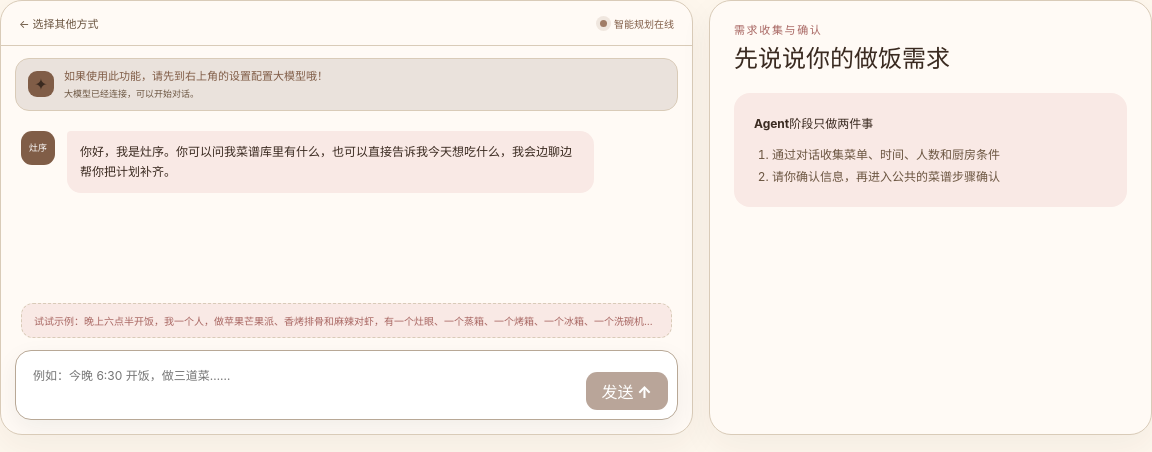
answers a catalog question without turning it into a missing-fields form
The image size is (1152, 452).
Type "菜谱里有什么菜？" into the text box named "告诉智能助手你的做饭需求". click: point(300, 385)
box: [25,360,576,410]
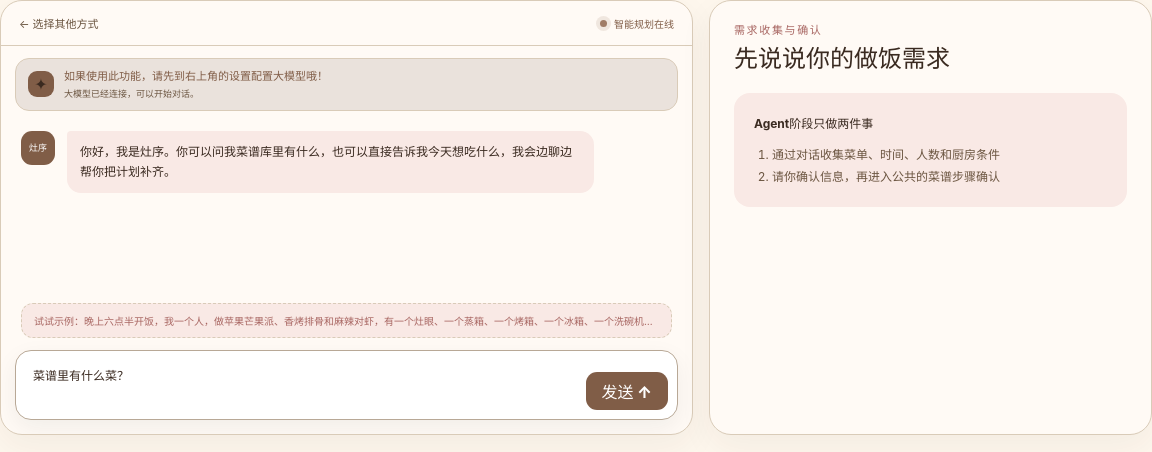
Click the button "发送 ↑". click: point(627, 391)
box: [586,372,668,410]
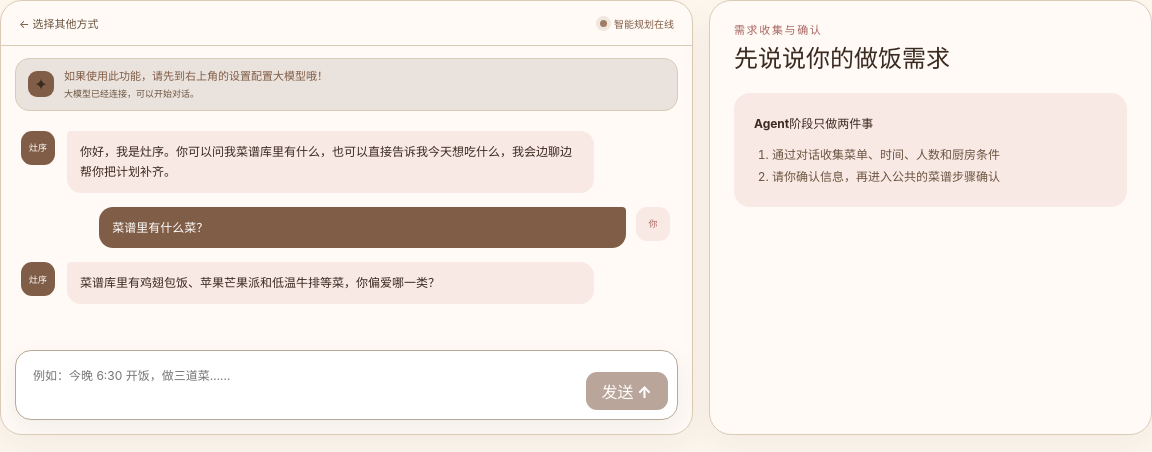
Expected: the heading "先说说你的做饭需求" is shown, [734,44,950,73]
Now the text "菜谱库里有鸡翅包饭、苹果芒果派和低温牛排等菜，你偏爱哪一类？" is shown, box [67,262,594,304]
